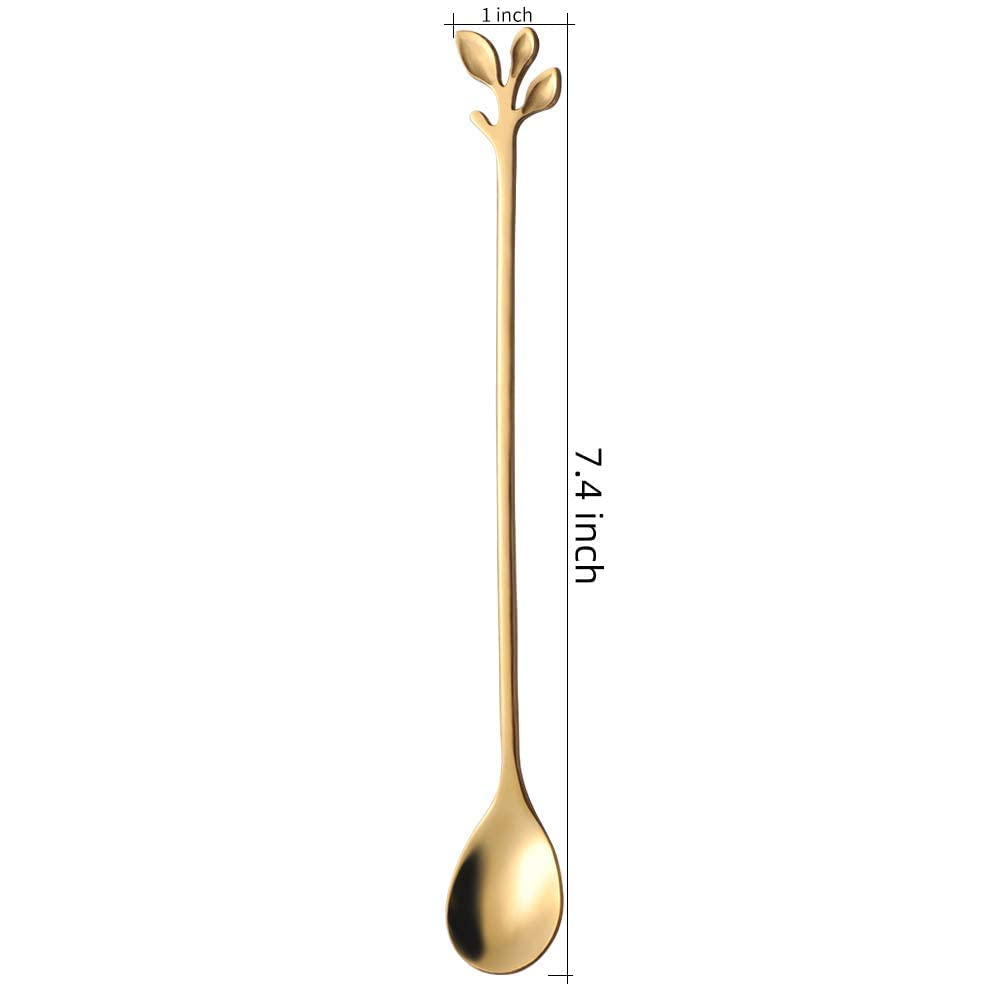linch: (483, 7, 532, 22)
